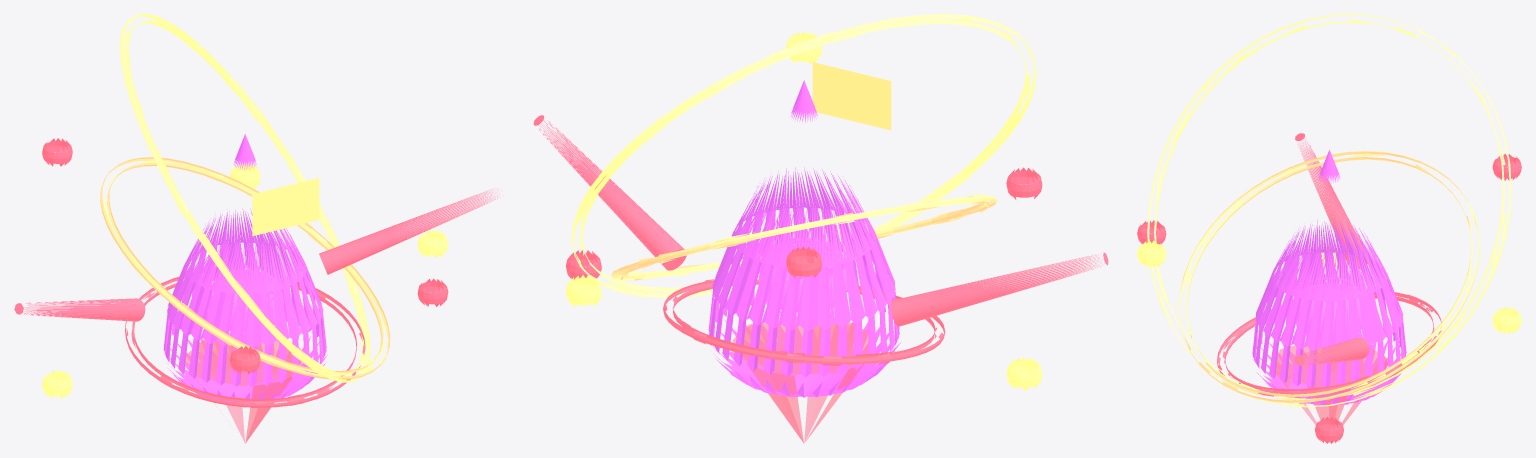
The model's file is local_minimum_boss_lod1.glb.
The picture shows the model from 3 angles, left to right: view 1: azimuth 30°, elevation 25°; view 2: azimuth 150°, elevation 25°; view 3: azimuth 270°, elevation 25°; orthographic projection. The views are drawn at different scales.
Visible parts, largest first — view 1: LocalMinimum_Body, ContourRing_2, ContourRing_1, GravityArm_R, ContourRing_0, FaceScreen, GravityIndicator, GravityArm_L, InnerCore, EnergyNode_2, EnergyNode_3, EnergyNode_0 (+3 smaller); view 2: LocalMinimum_Body, ContourRing_2, ContourRing_1, GravityIndicator, GravityArm_L, FaceScreen, GravityArm_R, ContourRing_0, InnerCore, EnergyNode_3, EnergyNode_1, EnergyNode_4 (+3 smaller); view 3: LocalMinimum_Body, ContourRing_2, ContourRing_1, GravityIndicator, ContourRing_0, GravityArm_L, GravityArm_R, InnerCore, EnergyNode_1, EnergyNode_0, EnergyNode_5, EnergyNode_2 (+1 smaller).
Part boxes in pixels (x1,y1,x2,y2): LocalMinimum_Body: [163, 134, 327, 403]; ContourRing_2: [120, 14, 370, 382]; ContourRing_1: [100, 157, 390, 379]; GravityArm_R: [319, 188, 498, 274]; ContourRing_0: [125, 273, 365, 408]; FaceScreen: [252, 178, 319, 236]; GravityIndicator: [185, 335, 303, 443]; GravityArm_L: [14, 298, 145, 321]; InnerCore: [207, 267, 283, 337]; EnergyNode_2: [42, 138, 72, 166]; EnergyNode_3: [42, 370, 72, 398]; EnergyNode_0: [417, 278, 448, 306]; LocalMinimum_Body: [708, 80, 900, 397]; ContourRing_2: [571, 14, 1036, 297]; ContourRing_1: [611, 194, 996, 281]; GravityIndicator: [731, 316, 868, 443]; GravityArm_L: [890, 252, 1108, 326]; FaceScreen: [812, 62, 891, 130]; GravityArm_R: [533, 115, 686, 270]; ContourRing_0: [663, 279, 945, 365]; InnerCore: [758, 237, 847, 318]; EnergyNode_3: [1006, 357, 1042, 390]; EnergyNode_1: [566, 275, 601, 307]; EnergyNode_4: [1006, 167, 1042, 199]; LocalMinimum_Body: [1252, 149, 1406, 405]; ContourRing_2: [1147, 14, 1511, 407]; ContourRing_1: [1179, 151, 1479, 403]; GravityIndicator: [1275, 343, 1387, 442]; ContourRing_0: [1217, 292, 1441, 397]; GravityArm_L: [1295, 133, 1367, 269]; GravityArm_R: [1295, 337, 1369, 365]; InnerCore: [1296, 276, 1361, 343]; EnergyNode_1: [1492, 307, 1521, 333]; EnergyNode_0: [1315, 417, 1343, 443]; EnergyNode_5: [1137, 240, 1166, 267]; EnergyNode_2: [1492, 154, 1521, 180].
Bounding box in the file's own units: 7.28 × 5.76 × 5.25.
